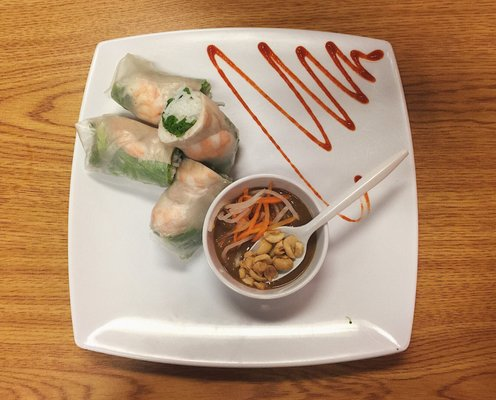sushi: (202, 174, 336, 300)
